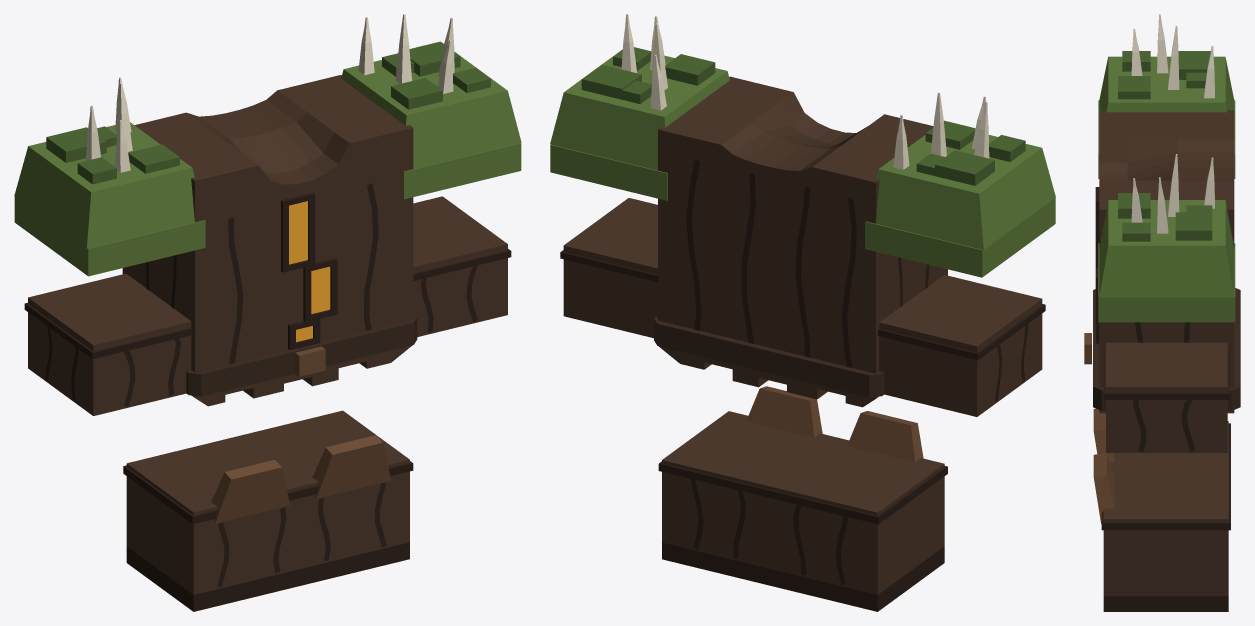
File: w2_armor_heartwood.fbx
3 views of the same model, side by side, from view 1: azimuth 30°, elevation 25°; view 2: azimuth 150°, elevation 25°; view 3: azimuth 270°, elevation 25° (orthographic). The views are drawn at different scales.
Parts seen in each view (by area): view 1: Heartwood.Chest, Heartwood.GreaveR, Heartwood.PadR, Heartwood.BracerR, Heartwood.PadL, Heartwood.GreaveL, Heartwood.BracerL, Heartwood.Grain, Heartwood.Belt, Heartwood.GreaveGrainR, Heartwood.KneeR, Heartwood.KneeL (+9 smaller); view 2: Heartwood.Chest, Heartwood.GreaveR, Heartwood.PadR, Heartwood.BracerR, Heartwood.GreaveL, Heartwood.PadL, Heartwood.BracerL, Heartwood.Belt, Heartwood.GreaveGrainR, Heartwood.Grain, Heartwood.GreaveGrainL, Heartwood.MossL (+7 smaller); view 3: Heartwood.Chest, Heartwood.GreaveL, Heartwood.PadL, Heartwood.BracerL, Heartwood.PadR, Heartwood.GreaveGrainL, Heartwood.MossL, Heartwood.MossR, Heartwood.GreaveR, Heartwood.BracerGrainL, Heartwood.ThornsR, Heartwood.Belt (+5 smaller).
Boxes of the visible parts, x1,y1,x2,y2 form: Heartwood.Chest: [122, 75, 413, 406]; Heartwood.GreaveR: [126, 436, 308, 594]; Heartwood.PadR: [14, 122, 205, 276]; Heartwood.BracerR: [28, 273, 191, 415]; Heartwood.PadL: [341, 56, 521, 199]; Heartwood.GreaveL: [229, 410, 409, 566]; Heartwood.BracerL: [413, 196, 507, 336]; Heartwood.Grain: [146, 183, 378, 364]; Heartwood.Belt: [186, 315, 417, 396]; Heartwood.GreaveGrainR: [123, 465, 311, 611]; Heartwood.KneeR: [211, 460, 289, 523]; Heartwood.KneeL: [312, 435, 390, 498]; Heartwood.Chest: [658, 76, 947, 407]; Heartwood.GreaveR: [762, 439, 944, 594]; Heartwood.PadR: [865, 135, 1055, 277]; Heartwood.BracerR: [879, 275, 1042, 416]; Heartwood.GreaveL: [662, 411, 843, 567]; Heartwood.PadL: [550, 49, 729, 200]; Heartwood.BracerL: [563, 198, 657, 338]; Heartwood.Belt: [654, 317, 884, 397]; Heartwood.GreaveGrainR: [759, 466, 947, 611]; Heartwood.Grain: [686, 159, 929, 367]; Heartwood.GreaveGrainL: [658, 461, 778, 587]; Heartwood.MossL: [581, 47, 715, 103]; Heartwood.Chest: [1099, 110, 1234, 413]; Heartwood.GreaveL: [1103, 467, 1228, 596]; Heartwood.PadL: [1098, 200, 1235, 322]; Heartwood.BracerL: [1106, 342, 1227, 452]; Heartwood.PadR: [1098, 56, 1235, 178]; Heartwood.GreaveGrainL: [1101, 477, 1230, 611]; Heartwood.MossL: [1118, 193, 1212, 241]; Heartwood.MossR: [1118, 51, 1210, 99]; Heartwood.GreaveR: [1110, 421, 1228, 473]; Heartwood.BracerGrainL: [1103, 348, 1229, 451]; Heartwood.ThornsR: [1131, 14, 1214, 98]; Heartwood.Belt: [1093, 288, 1240, 410].
Bounding box in the file's own units: 4.3 × 4.8 × 1.44.
